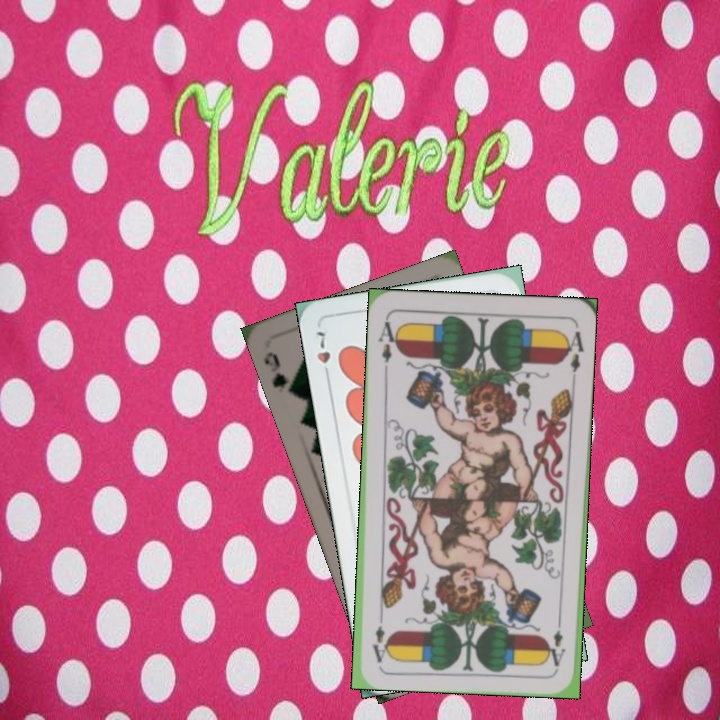EA: (375, 314, 401, 373), (546, 626, 568, 669)
G9: (259, 348, 300, 398)
H7: (311, 326, 333, 383)
